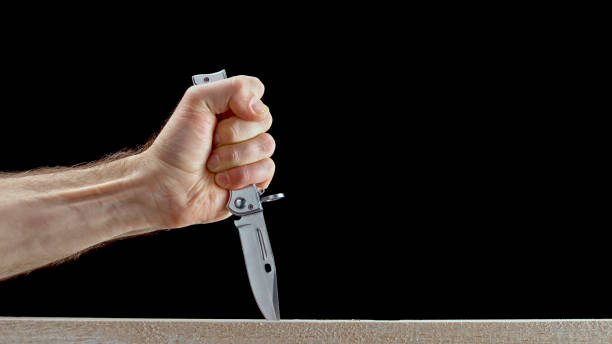knife: (192, 70, 287, 317)
